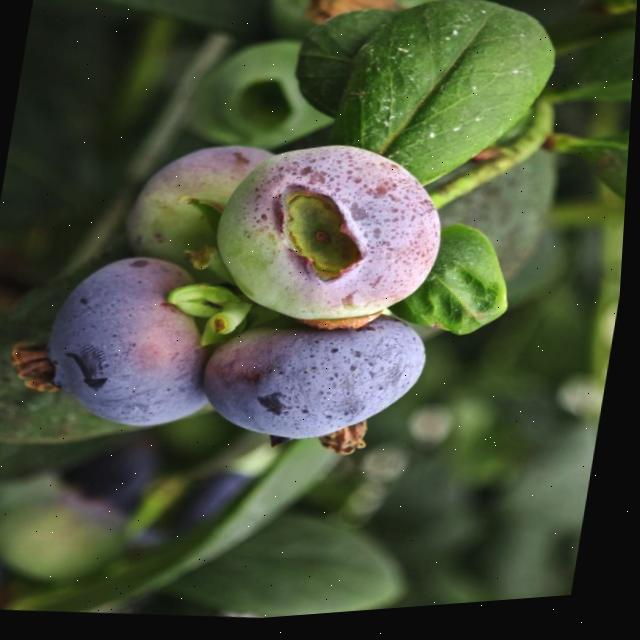Semi-RipeBlueBerry: (210, 134, 454, 341), (9, 250, 217, 454), (201, 313, 434, 464)
